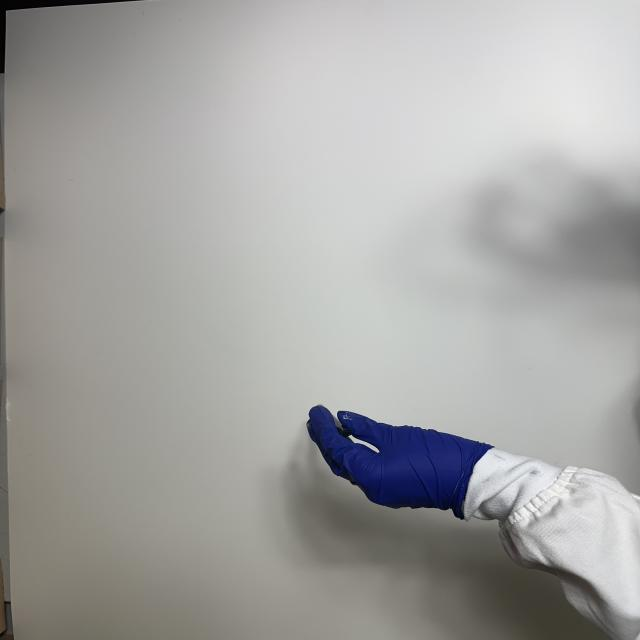gloves_contaminated: (308, 406, 492, 519)
